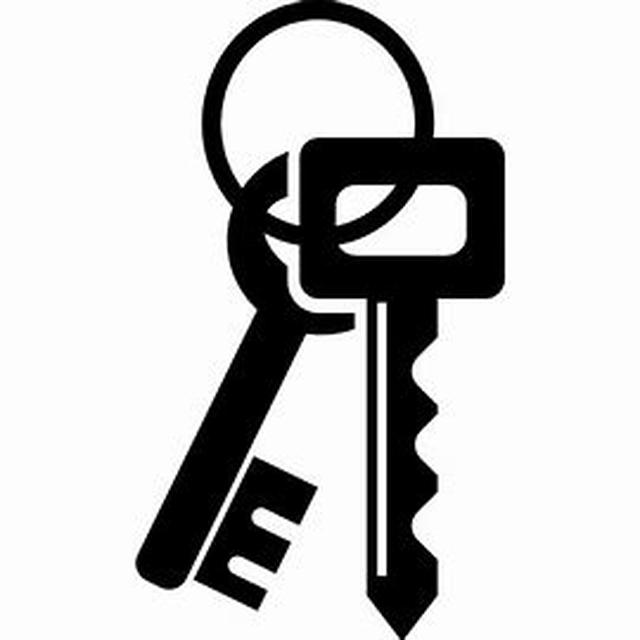key: (123, 75, 501, 638)
